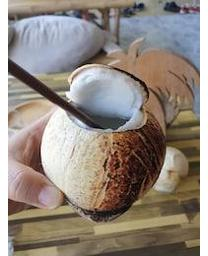coconut: (39, 64, 168, 218)
